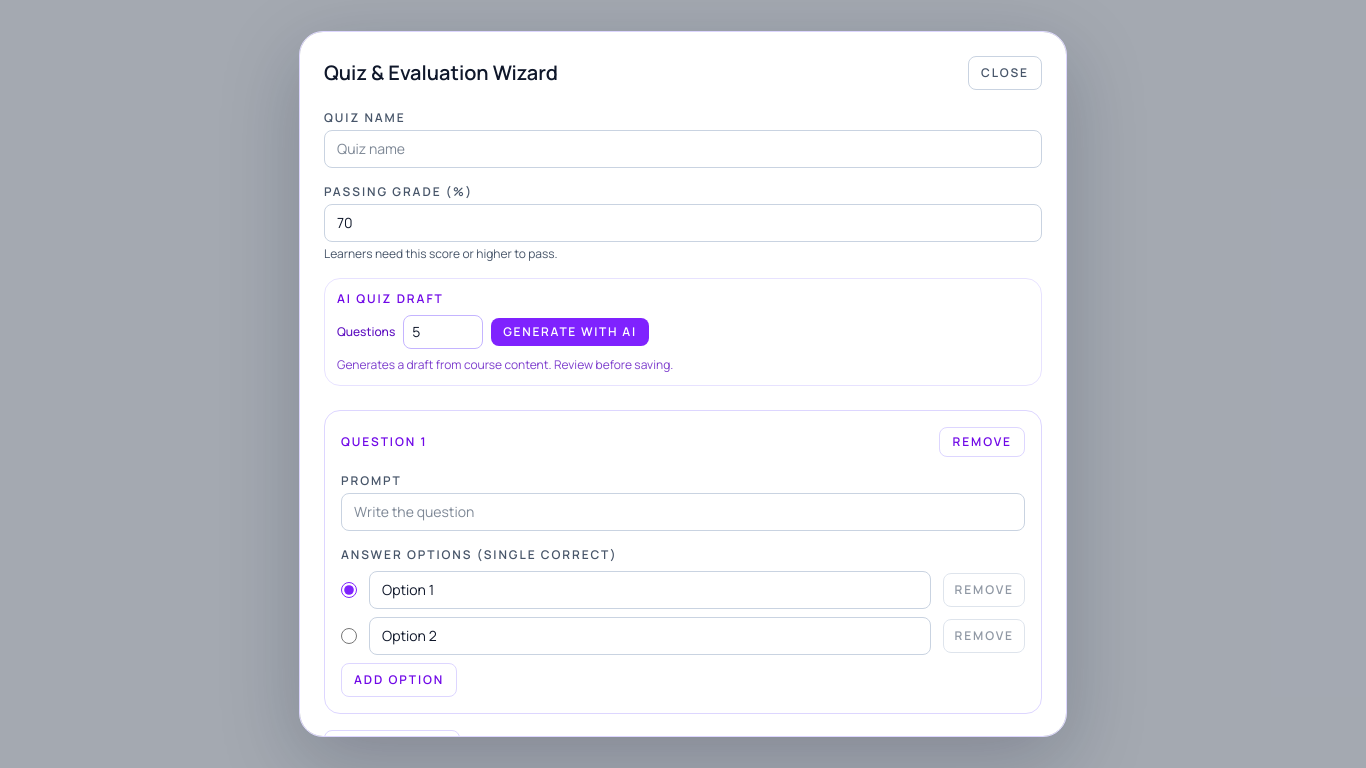
QuizWizard › uses fallback AI error text for non-Error rejections
Click the button "Generate With AI": (570, 332) [491, 318, 649, 346]
(page scrolled)
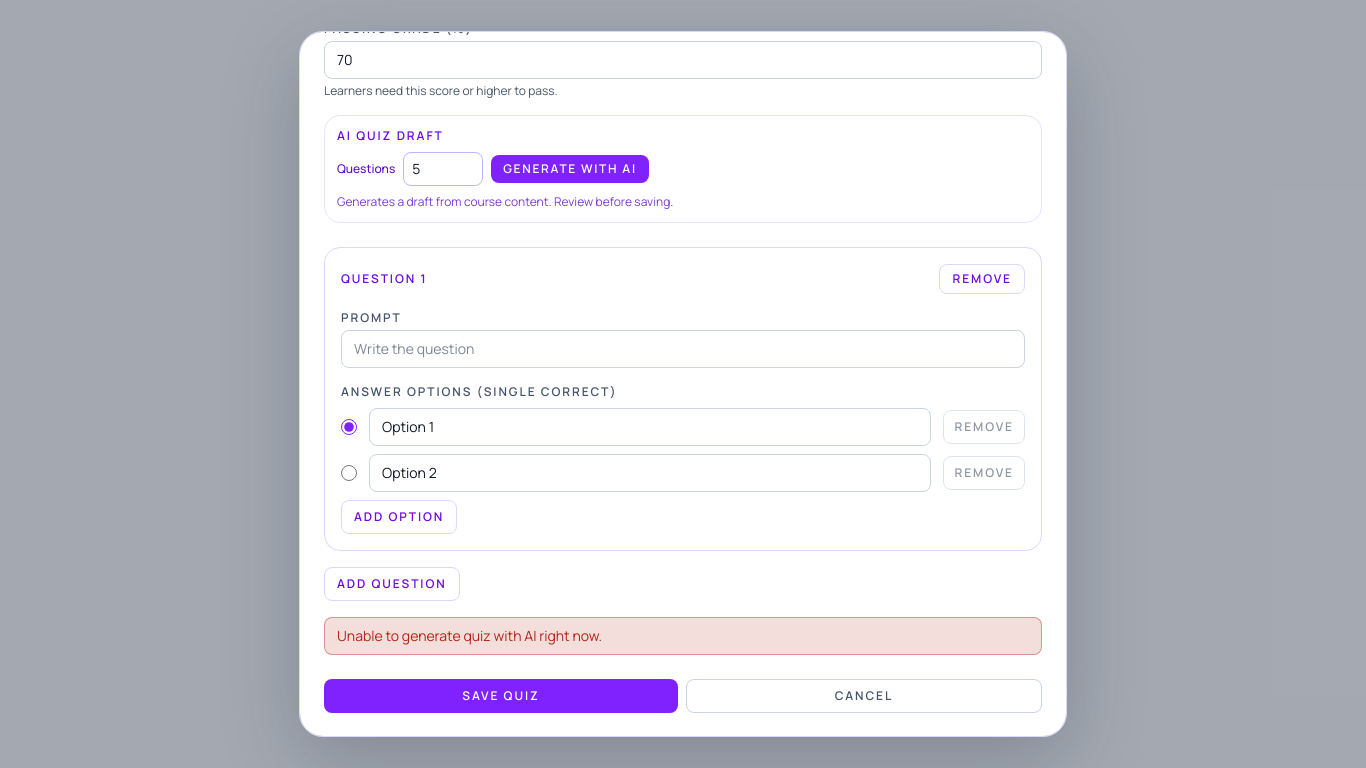
Check: the text "Unable to generate quiz with AI right now." is shown, box [324, 617, 1042, 655]
